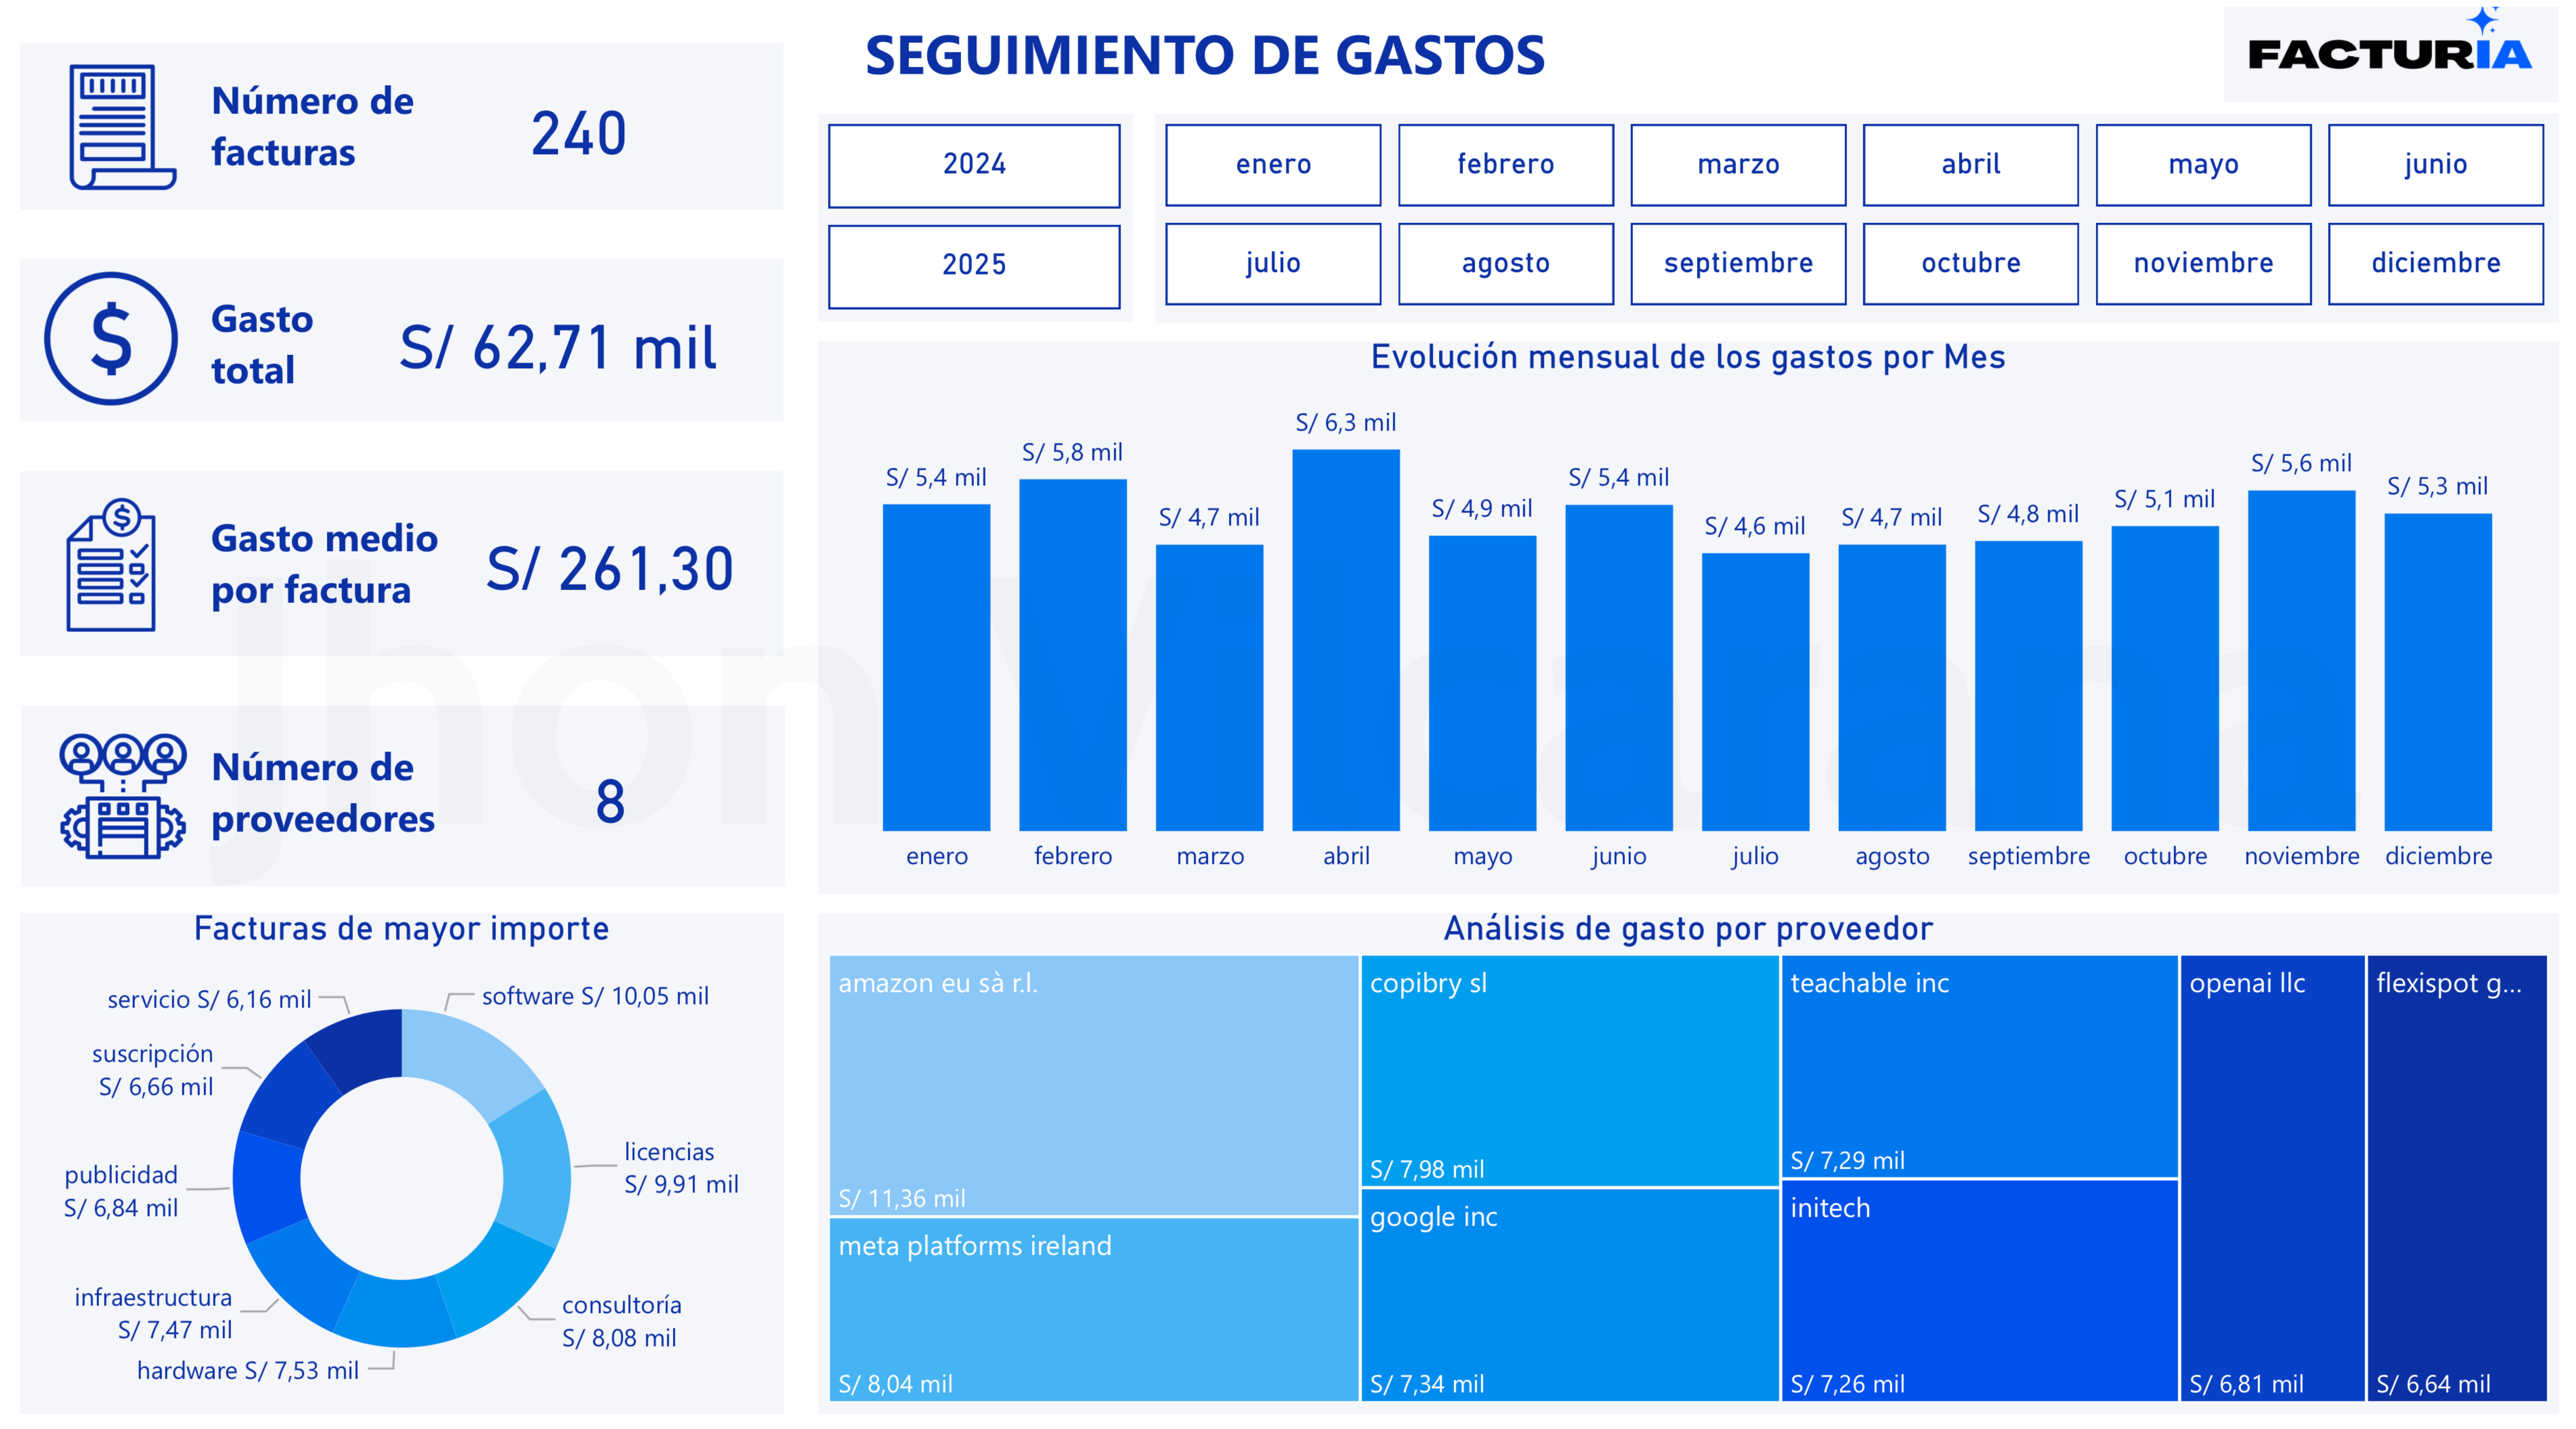

The page's visual inventory and layout, read from the dashboard file:
{"tool":"powerbi","page":{"name":"Página 1","canvas":[1280,720],"ordinal":0},"visuals":[{"type":"shape","box":[0,0,1280.4,720],"z":0},{"type":"shape","box":[22.5,135.8,370.8,79.2],"z":1000},{"type":"columnChart","fields":{"Y":["Sum(FacturIA.Importe)"],"Category":["FacturIA.Fecha.Variación.Jerarquía de fechas.Mes"]},"box":[410,175.8,845.8,268.3],"z":2000},{"type":"slicer","fields":{"Values":["FacturIA.Fecha.Variación.Jerarquía de fechas.Mes"]},"box":[573.7,65.6,681.9,101.1],"z":3000},{"type":"shape","box":[22.5,30.8,370.8,80.8],"z":4000},{"type":"treemap","title":"Análisis de gasto por proveedor","fields":{"Group":["FacturIA.Proveedor"],"Values":["Sum(FacturIA.Importe)"]},"box":[410,453.3,845.8,243.3],"z":5000},{"type":"card","fields":{"Values":["FacturIA.Total Facturas"]},"box":[243.3,39.2,100.8,65],"z":6000},{"type":"shape","box":[23.3,352.5,370.8,88.3],"z":7000},{"type":"shape","box":[22.5,239.2,370.8,90],"z":8000},{"type":"card","fields":{"Values":["Sum(FacturIA.Importe)"]},"box":[148.3,152.5,271.7,46.7],"z":9000},{"type":"card","fields":{"Values":["Avg(FacturIA.Importe)"]},"box":[240.8,257.5,136.7,52.5],"z":10000},{"type":"card","fields":{"Values":["Count(FacturIA.Proveedor)"]},"box":[284.2,371.7,50,50],"z":11000},{"type":"donutChart","title":"Facturas de mayor importe","fields":{"Y":["Sum(FacturIA.Importe)"],"Category":["FacturIA.Concepto"]},"box":[22.5,453.3,370.8,243.3],"z":12000},{"type":"textbox","box":[110,40,110.8,62.5],"z":13000},{"type":"textbox","box":[110,145.8,69.2,60],"z":14000},{"type":"textbox","box":[110,252.5,125,62.5],"z":15000},{"type":"textbox","box":[110,364.2,133.3,65],"z":16000},{"type":"image","box":[29.2,246.7,75,75],"z":17000},{"type":"image","box":[35,34.2,75,75],"z":18000},{"type":"image","box":[29.2,136.7,75,75],"z":19000},{"type":"image","box":[35,359.2,75,75],"z":20000},{"type":"textbox","box":[427.5,11.7,342.5,48.3],"z":21000},{"type":"image","box":[1093.3,13.3,162.5,46.7],"z":22000},{"type":"advancedSlicerVisual","fields":{"Values":["FacturIA.Fecha.Variación.Jerarquía de fechas.Mes"]},"box":[573.6,65.5,681.8,100],"z":24000},{"type":"advancedSlicerVisual","fields":{"Values":["FacturIA.Fecha.Variación.Jerarquía de fechas.Año"]},"box":[410,65.5,152.7,100.9],"z":24001}]}

Visuals, with their boxes in screenshot pixels (x1, y1, x2, y2), scaled from the page's 1280x720 canvas onto the 2576x1429 screenshot:
shape: l=0, t=0, r=2576, b=1429
shape: l=45, t=270, r=791, b=427
columnChart - Sum(FacturIA.Importe) x FacturIA.Fecha.Variación.Jerarquía de fechas.Mes: l=825, t=349, r=2527, b=882
slicer - FacturIA.Fecha.Variación.Jerarquía de fechas.Mes: l=1154, t=130, r=2527, b=331
shape: l=45, t=61, r=791, b=221
"Análisis de gasto por proveedor" treemap: l=825, t=900, r=2527, b=1383
card - FacturIA.Total Facturas: l=489, t=78, r=692, b=207
shape: l=47, t=700, r=793, b=875
shape: l=45, t=475, r=791, b=653
card - Sum(FacturIA.Importe): l=299, t=303, r=845, b=395
card - Avg(FacturIA.Importe): l=485, t=511, r=760, b=615
card - Count(FacturIA.Proveedor): l=572, t=738, r=673, b=837
"Facturas de mayor importe" donutChart: l=45, t=900, r=791, b=1383
textbox: l=221, t=79, r=444, b=203
textbox: l=221, t=289, r=361, b=409
textbox: l=221, t=501, r=473, b=625
textbox: l=221, t=723, r=489, b=852
image: l=59, t=489, r=210, b=638
image: l=70, t=68, r=221, b=217
image: l=59, t=271, r=210, b=420
image: l=70, t=713, r=221, b=862
textbox: l=861, t=23, r=1550, b=119
image: l=2200, t=27, r=2527, b=119
advancedSlicerVisual - FacturIA.Fecha.Variación.Jerarquía de fechas.Mes: l=1154, t=130, r=2526, b=328
advancedSlicerVisual - FacturIA.Fecha.Variación.Jerarquía de fechas.Año: l=825, t=130, r=1133, b=330
